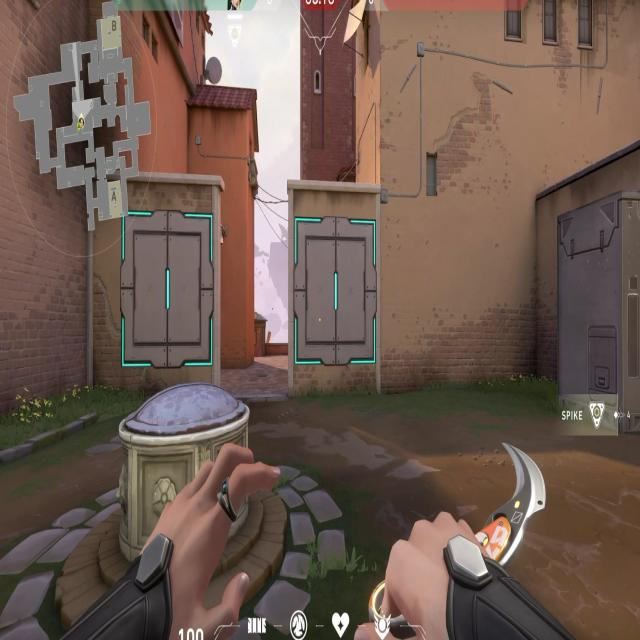Mid_Wall: (89, 172, 220, 402), (286, 179, 384, 384)
